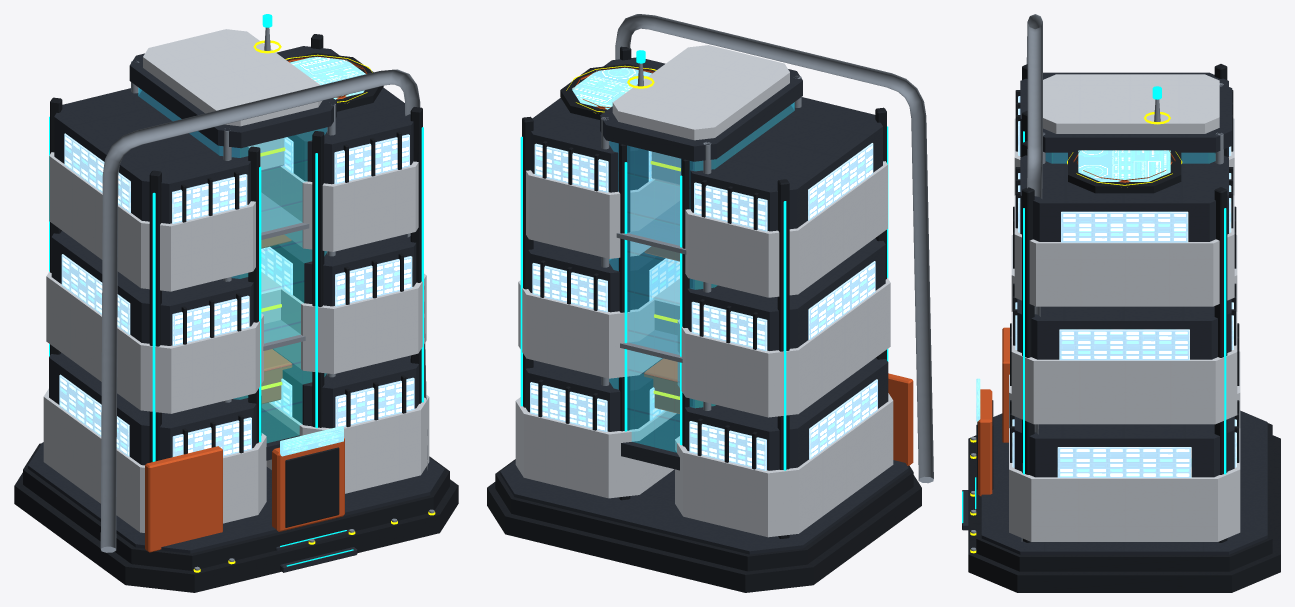
File: bldg_13_r1_03.glb
3 views of the same model, side by side, from view 1: azimuth 30°, elevation 25°; view 2: azimuth 150°, elevation 25°; view 3: azimuth 270°, elevation 25° (orthographic). The views are drawn at different scales.
Visible parts, largest first — view 1: Bldg13_C03_aero_white, Bldg13_C03_carbon_slate, Bldg13_C03_gunmetal, Bldg13_C03_window_lit, Bldg13_C03_steel_machined, Bldg13_C03_glass_cyan, Bldg13_C03_accent_orange, Bldg13_C03_led_cyan, Bldg13_C03_marquee, Bldg13_C03_led_amber; view 2: Bldg13_C03_aero_white, Bldg13_C03_carbon_slate, Bldg13_C03_gunmetal, Bldg13_C03_window_lit, Bldg13_C03_glass_cyan, Bldg13_C03_steel_machined, Bldg13_C03_led_cyan, Bldg13_C03_accent_orange, Bldg13_C03_marquee, Bldg13_C03_led_amber; view 3: Bldg13_C03_aero_white, Bldg13_C03_carbon_slate, Bldg13_C03_gunmetal, Bldg13_C03_window_lit, Bldg13_C03_steel_machined, Bldg13_C03_marquee, Bldg13_C03_accent_orange, Bldg13_C03_led_cyan, Bldg13_C03_glass_cyan, Bldg13_C03_led_amber.
Boxes of the visible parts, left/top/right/bottom form: Bldg13_C03_aero_white: left=43, top=29, right=429, bottom=532; Bldg13_C03_carbon_slate: left=28, top=46, right=444, bottom=572; Bldg13_C03_gunmetal: left=14, top=34, right=458, bottom=592; Bldg13_C03_window_lit: left=59, top=133, right=414, bottom=456; Bldg13_C03_steel_machined: left=100, top=27, right=434, bottom=570; Bldg13_C03_glass_cyan: left=138, top=87, right=326, bottom=442; Bldg13_C03_accent_orange: left=145, top=56, right=367, bottom=552; Bldg13_C03_led_cyan: left=49, top=14, right=423, bottom=566; Bldg13_C03_marquee: left=280, top=56, right=365, bottom=456; Bldg13_C03_led_amber: left=193, top=40, right=435, bottom=572; Bldg13_C03_aero_white: left=515, top=45, right=893, bottom=537; Bldg13_C03_carbon_slate: left=500, top=57, right=908, bottom=554; Bldg13_C03_gunmetal: left=487, top=46, right=921, bottom=592; Bldg13_C03_window_lit: left=530, top=143, right=877, bottom=470; Bldg13_C03_glass_cyan: left=609, top=102, right=794, bottom=452; Bldg13_C03_steel_machined: left=601, top=14, right=933, bottom=483; Bldg13_C03_led_cyan: left=520, top=50, right=888, bottom=470; Bldg13_C03_accent_orange: left=573, top=67, right=913, bottom=465; Bldg13_C03_marquee: left=572, top=67, right=651, bottom=109; Bldg13_C03_led_amber: left=566, top=65, right=680, bottom=399; Bldg13_C03_aero_white: left=1009, top=74, right=1240, bottom=541; Bldg13_C03_carbon_slate: left=962, top=72, right=1267, bottom=554; Bldg13_C03_gunmetal: left=968, top=64, right=1280, bottom=592; Bldg13_C03_window_lit: left=1012, top=96, right=1236, bottom=477; Bldg13_C03_steel_machined: left=971, top=14, right=1223, bottom=551; Bldg13_C03_marquee: left=976, top=150, right=1170, bottom=421; Bldg13_C03_accent_orange: left=978, top=150, right=1175, bottom=496; Bldg13_C03_led_cyan: left=962, top=86, right=1226, bottom=523; Bldg13_C03_glass_cyan: left=1046, top=153, right=1215, bottom=163; Bldg13_C03_led_amber: left=970, top=112, right=1182, bottom=553.
Size of the model in its own units: 13.16 by 16.62 by 10.71.
10 materials, 10 textured.
